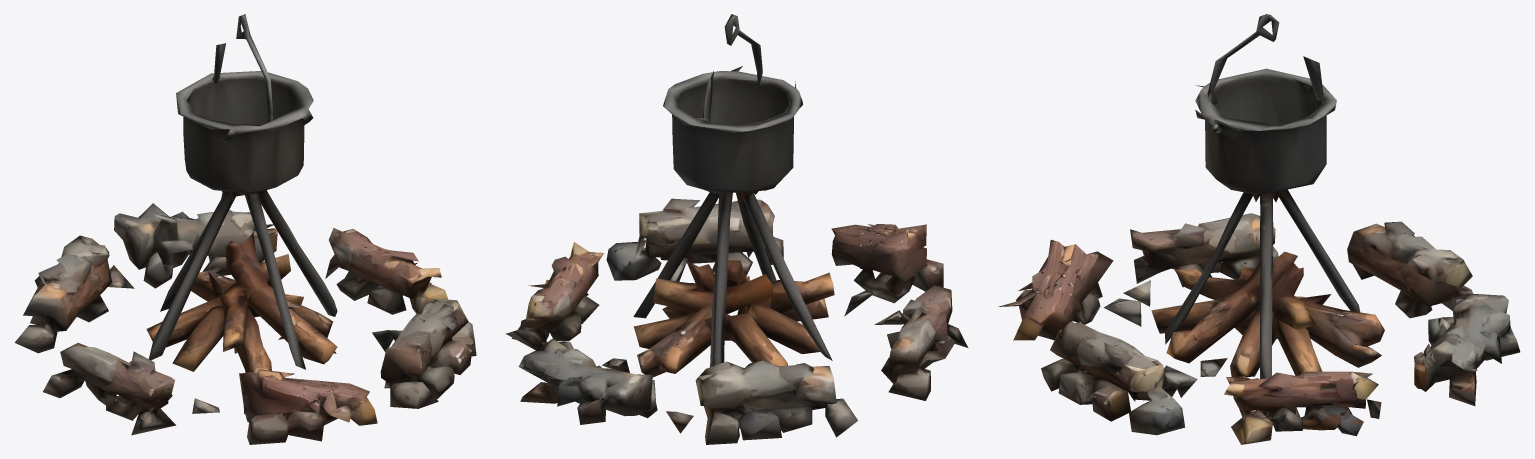
Rendered from b_campfire.glb.
3 views of the same model, side by side, from view 1: azimuth 30°, elevation 25°; view 2: azimuth 150°, elevation 25°; view 3: azimuth 270°, elevation 25° (orthographic).
Parts seen in each view (by area): view 1: tripo_node_398ed76f-1c64-4bc2-ad6b-c3a839b0c256; view 2: tripo_node_398ed76f-1c64-4bc2-ad6b-c3a839b0c256; view 3: tripo_node_398ed76f-1c64-4bc2-ad6b-c3a839b0c256.
Boxes of the visible parts, box(x1,y1,x2,y2) form: tripo_node_398ed76f-1c64-4bc2-ad6b-c3a839b0c256: box(14, 14, 476, 444); tripo_node_398ed76f-1c64-4bc2-ad6b-c3a839b0c256: box(506, 14, 968, 444); tripo_node_398ed76f-1c64-4bc2-ad6b-c3a839b0c256: box(998, 14, 1520, 444).
Size of the model in its own units: 0.8729 by 0.7165 by 1.
Materials: 1 (1 with a texture image).
